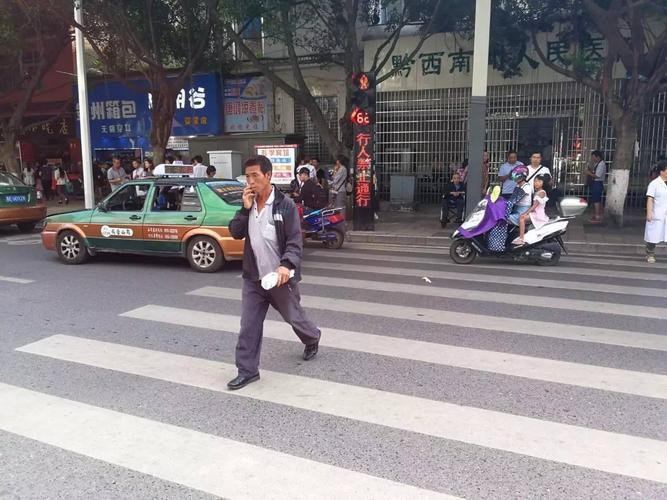car: (40, 174, 262, 274)
motorbike: (452, 171, 570, 262)
person: (232, 161, 306, 369), (449, 158, 513, 259), (497, 158, 541, 253), (612, 158, 639, 235)
